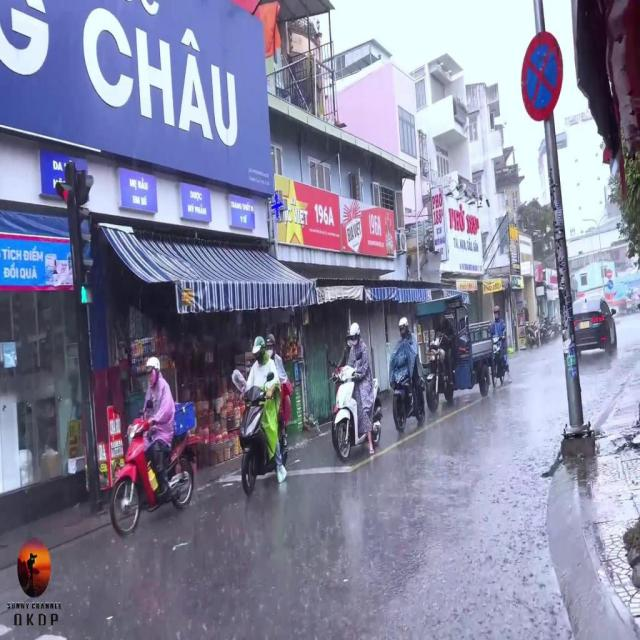cam_dung_xe_va_do_xe: (521, 32, 563, 120)
